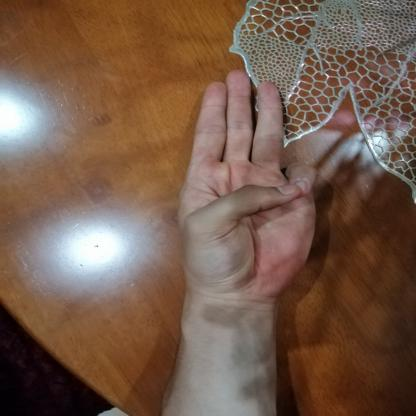THA: (161, 58, 333, 310)
